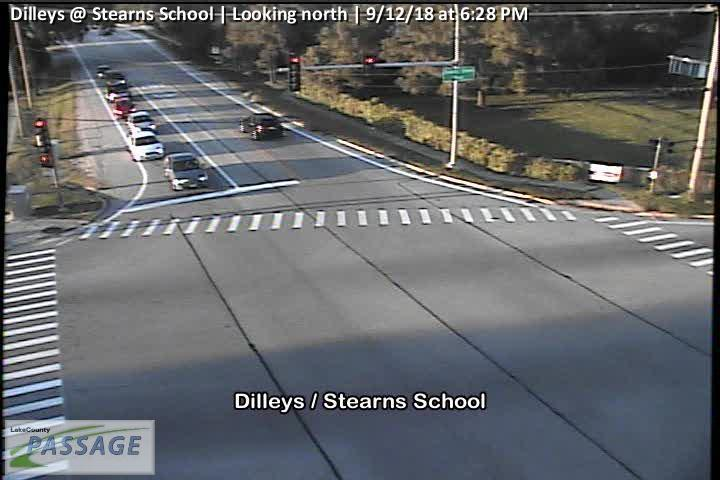SUV: (163, 153, 208, 191)
Sedan: (240, 112, 284, 139), (128, 131, 163, 162), (126, 110, 158, 137), (111, 94, 136, 117), (95, 64, 109, 77)
Truck: (105, 70, 130, 100)
